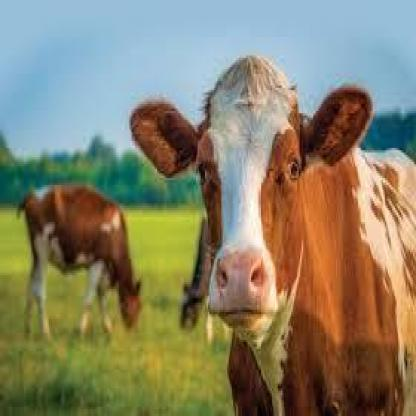cow: (130, 58, 416, 416), (23, 188, 140, 343)
